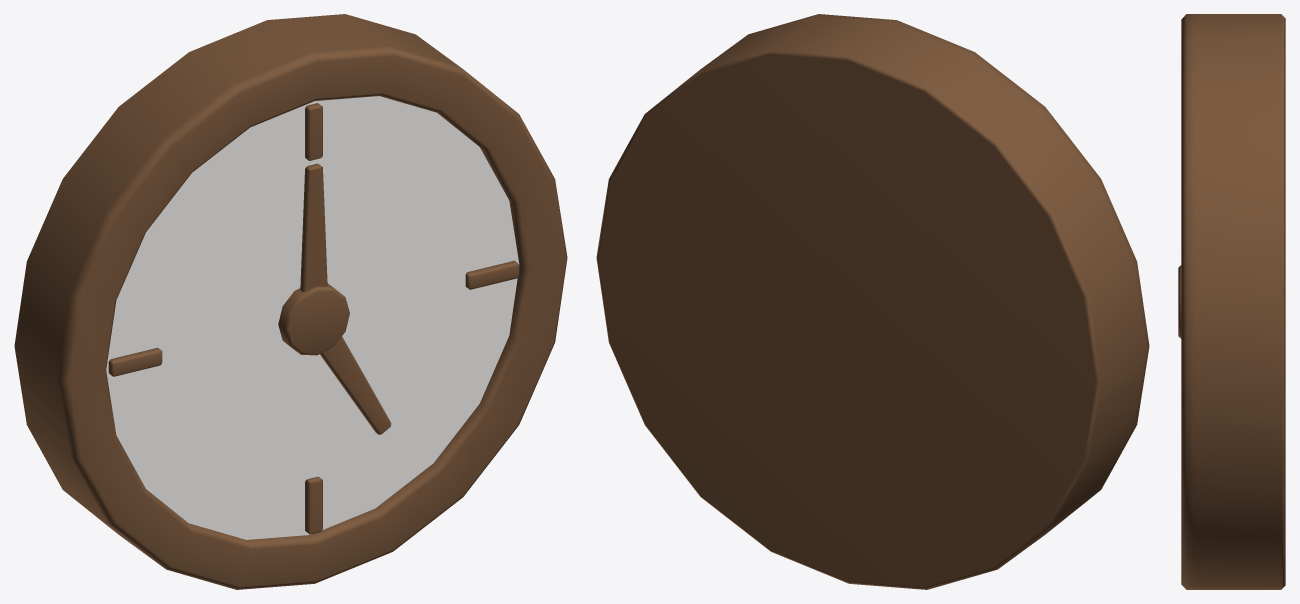
The model's file is Clock_5.glb.
3 renders of one model, left to right at view 1: azimuth 30°, elevation 25°; view 2: azimuth 150°, elevation 25°; view 3: azimuth 270°, elevation 25°, orthographic.
Visible parts, largest first — view 1: Clock_5; view 2: Clock_5; view 3: Clock_5.
Part boxes in pixels (x1,y1,x2,y2): Clock_5: (14, 14, 567, 589); Clock_5: (596, 14, 1149, 589); Clock_5: (1178, 14, 1285, 589).
Size of the model in its own units: 0.6228 by 0.6228 by 0.115.
Materials: 1 (1 with a texture image).
